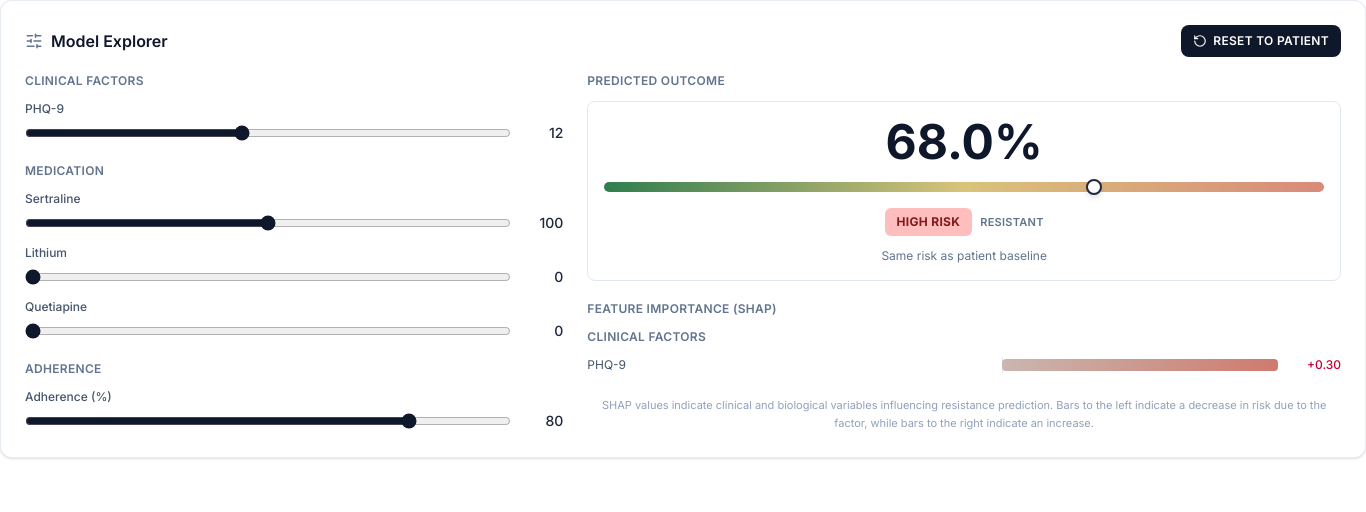
Test case: ModelExplorer › surfaces prediction errors
Set the slider labelled "PHQ-9" to "5" at (120,133), box [25, 125, 511, 141]
Wait 500 ms
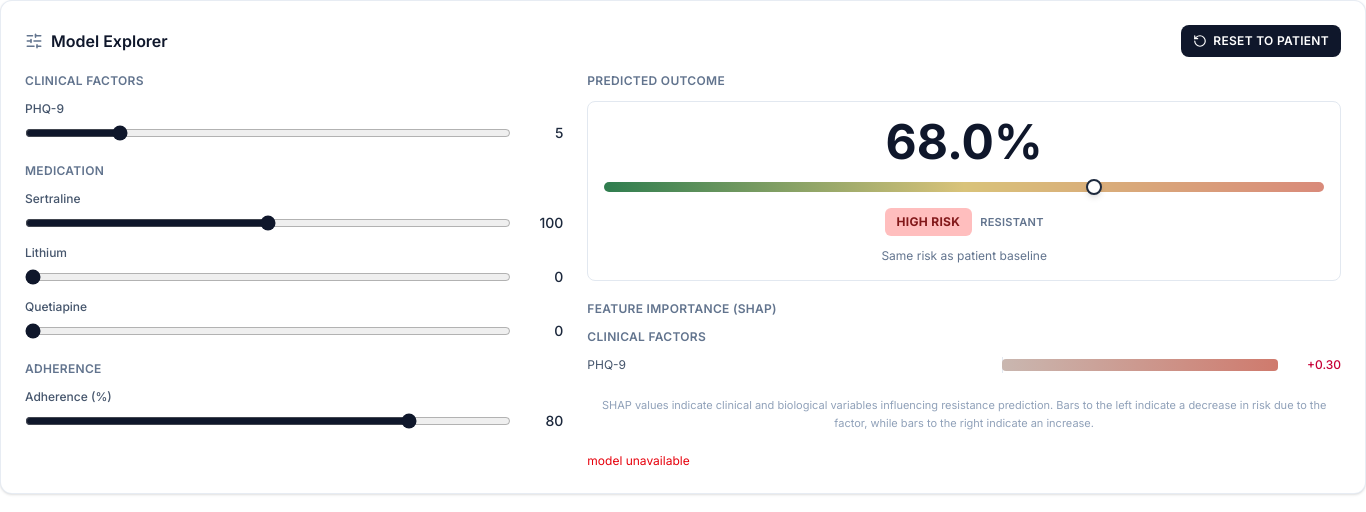
Result: the text "model unavailable" is shown at [587, 453, 690, 468]
